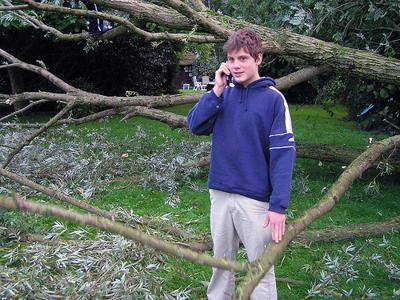person: (187, 30, 297, 298)
